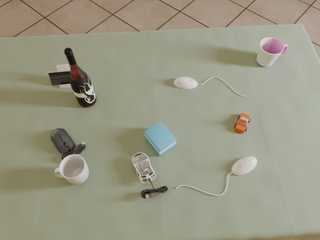bottle: (64, 48, 96, 107)
box: (145, 121, 176, 156)
cup: (55, 155, 89, 184), (257, 37, 288, 67)
mouse: (51, 128, 86, 160), (132, 153, 156, 183), (232, 156, 257, 175), (174, 77, 197, 89)
phone: (48, 70, 71, 85)
toy_car: (235, 113, 250, 134)
